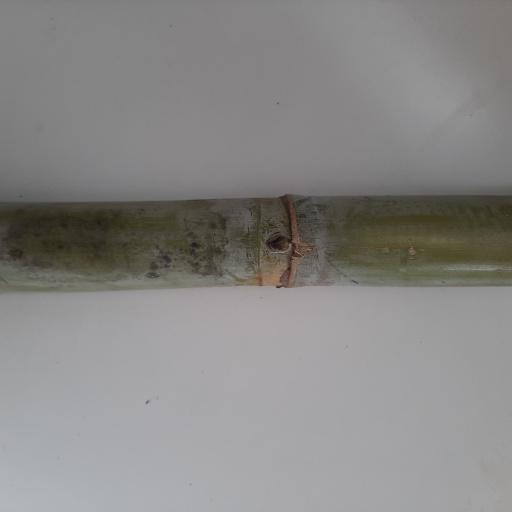Bud: (266, 232, 293, 253)
